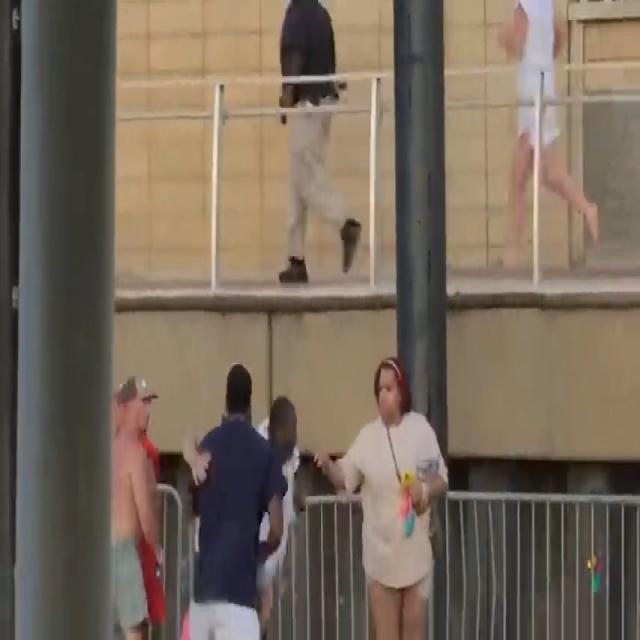fight: (170, 350, 306, 640)
non-fight: (313, 350, 453, 640)
